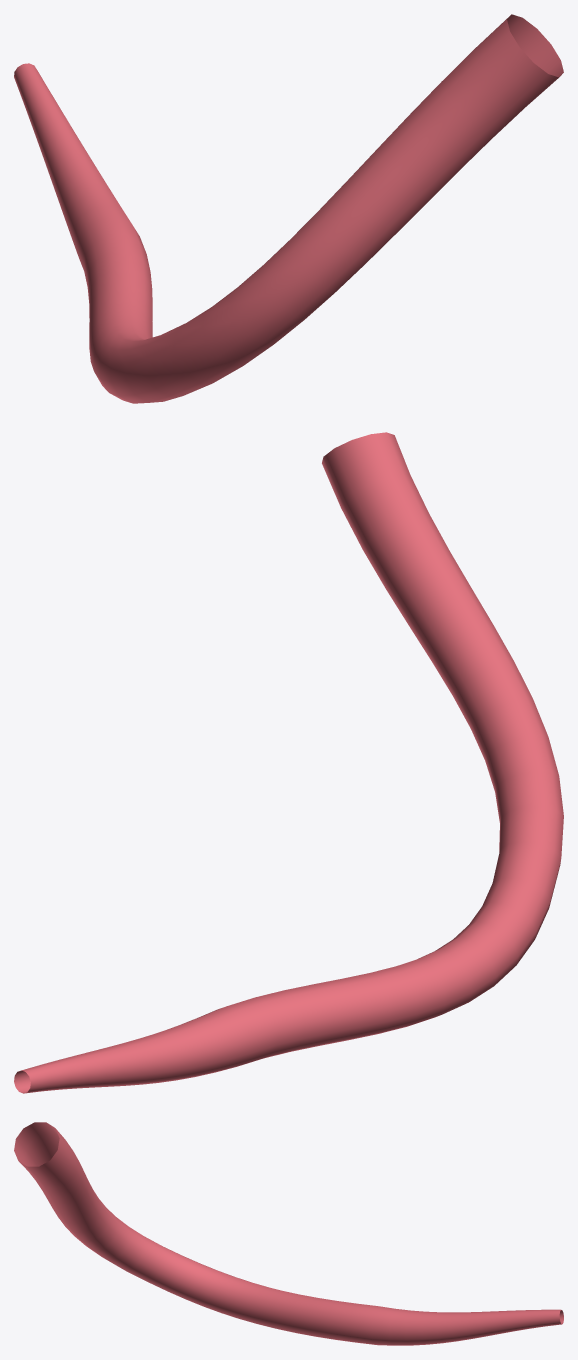
3 renders of one model, top to bottom at view 1: azimuth 30°, elevation 25°; view 2: azimuth 150°, elevation 25°; view 3: azimuth 270°, elevation 25°, orthographic. The views are drawn at different scales.
Parts seen in each view (by area): view 1: ZA_ec0ad73e839719a1; view 2: ZA_ec0ad73e839719a1; view 3: ZA_ec0ad73e839719a1.
Part boxes in pixels (x1,y1,x2,y2): ZA_ec0ad73e839719a1: (14, 14, 563, 403); ZA_ec0ad73e839719a1: (14, 432, 563, 1093); ZA_ec0ad73e839719a1: (14, 1122, 563, 1345).
Size of the model in its own units: 0.00923 by 0.0117 by 0.0222.
